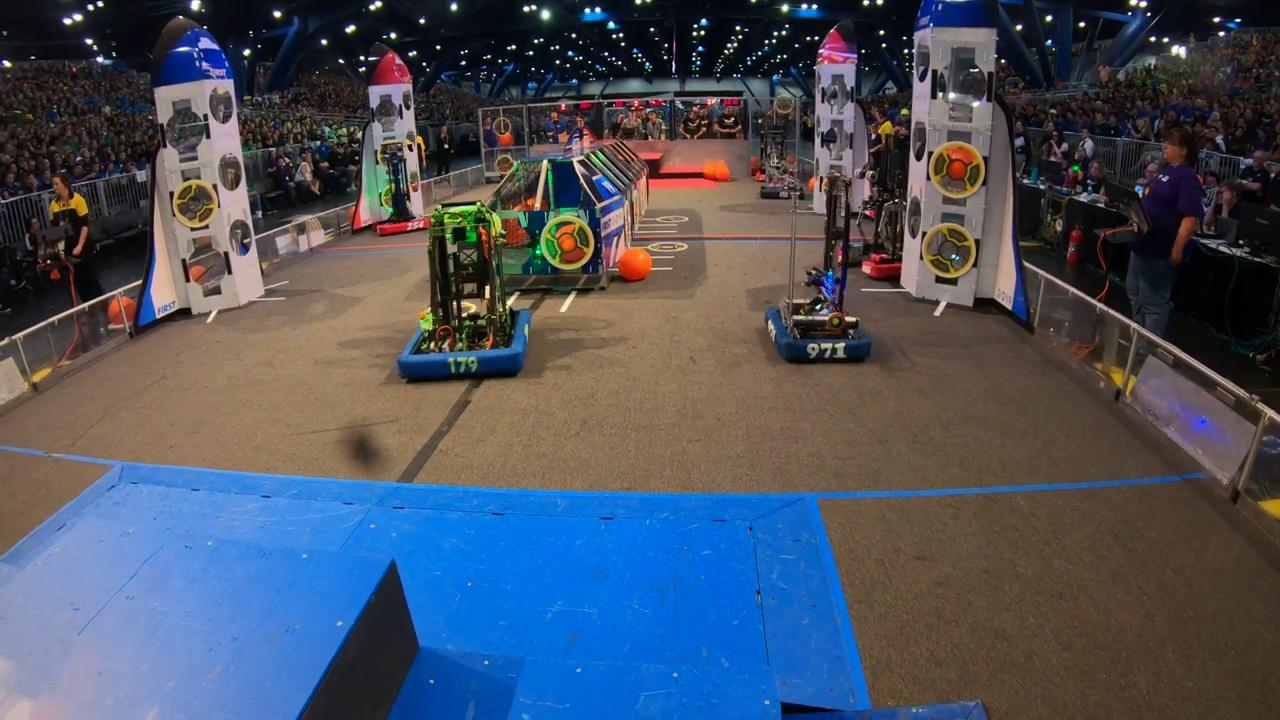robot: (394, 204, 536, 386), (759, 164, 876, 367), (836, 184, 908, 283), (373, 140, 437, 236), (754, 150, 810, 204)
